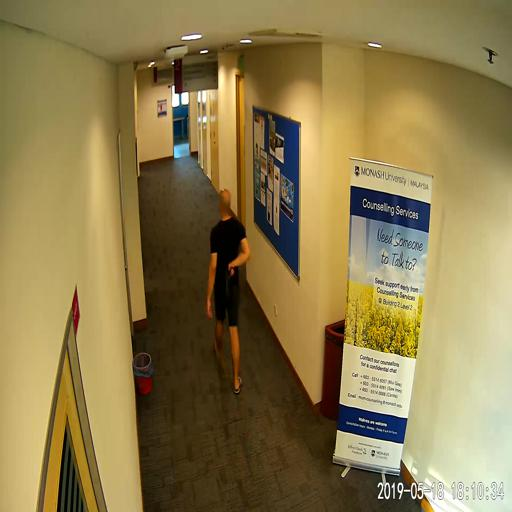pistol: (224, 263, 234, 296)
